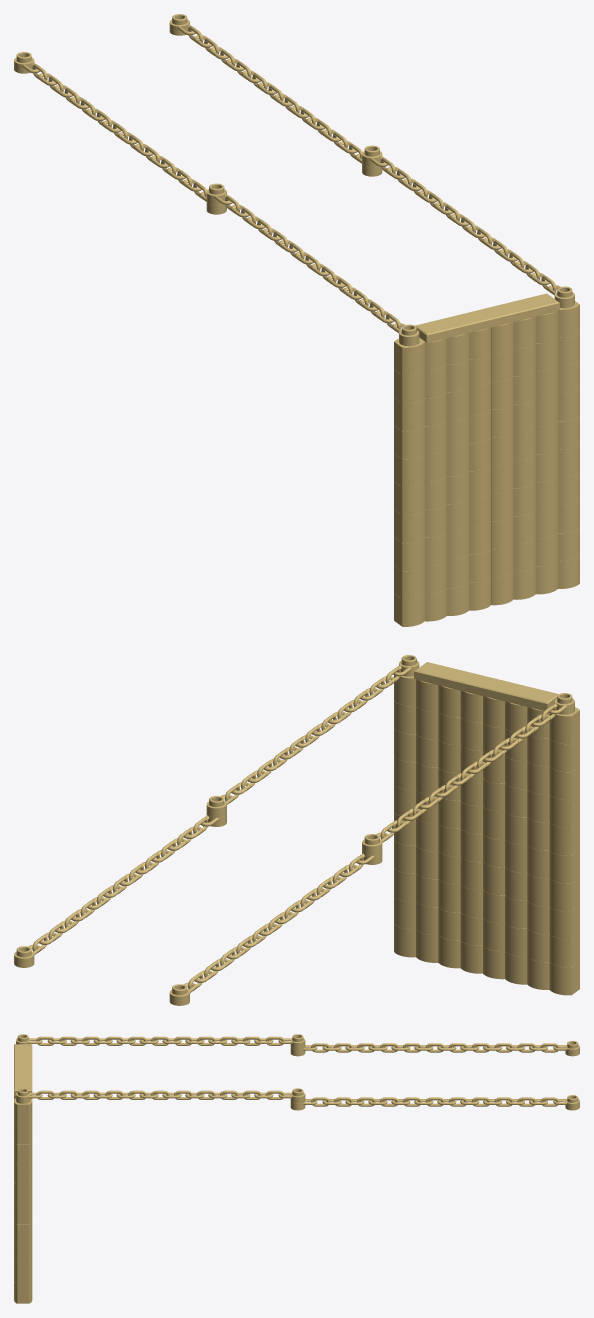
Rendered from bridge.fbx.
3 views of the same model, one above another, from view 1: azimuth 30°, elevation 25°; view 2: azimuth 150°, elevation 25°; view 3: azimuth 270°, elevation 25° (orthographic). The views are drawn at different scales.
Parts seen in each view (by area): view 1: Bridge, part.067, part.021; view 2: Bridge, part.067, part.021; view 3: Bridge, part.021, part.067.
Boxes of the visible parts, bbox=[...] form: Bridge: bbox=[392, 285, 579, 626]; part.067: bbox=[14, 52, 400, 331]; part.021: bbox=[169, 14, 556, 293]; Bridge: bbox=[393, 655, 579, 995]; part.067: bbox=[169, 705, 556, 1005]; part.021: bbox=[14, 667, 400, 967]; Bridge: bbox=[14, 1034, 42, 1303]; part.021: bbox=[36, 1088, 579, 1110]; part.067: bbox=[36, 1034, 579, 1056].
Bounding box in the file's own units: 6392 × 10098 × 24720.
